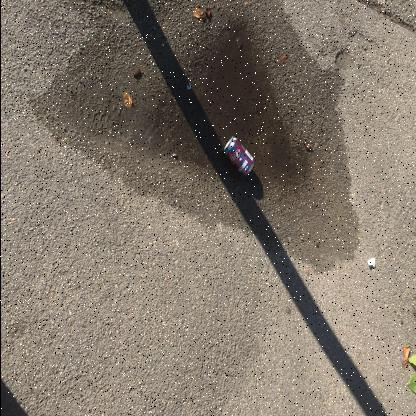metal: (222, 136, 254, 176)
